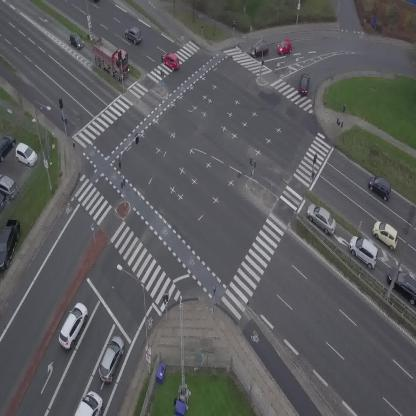car: (54, 300, 92, 351), (94, 334, 128, 385), (343, 231, 385, 271), (302, 200, 342, 237), (368, 217, 404, 251), (366, 173, 395, 201), (159, 50, 183, 72), (65, 30, 86, 53), (122, 24, 145, 45), (275, 39, 293, 55), (249, 42, 268, 57), (299, 73, 308, 95)
lorry: (84, 32, 138, 83), (74, 391, 102, 416)
